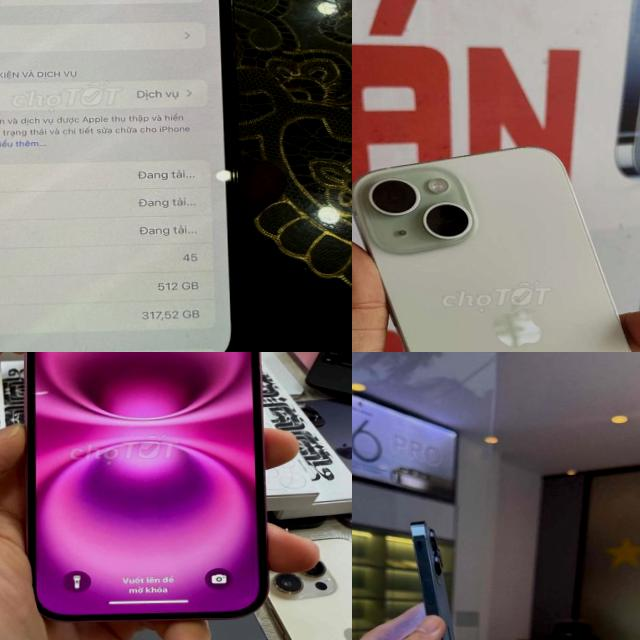gen_12_13: (0, 0, 242, 352), (402, 506, 487, 640)
gen_15: (352, 140, 640, 352)
gen_16: (11, 352, 287, 632)
